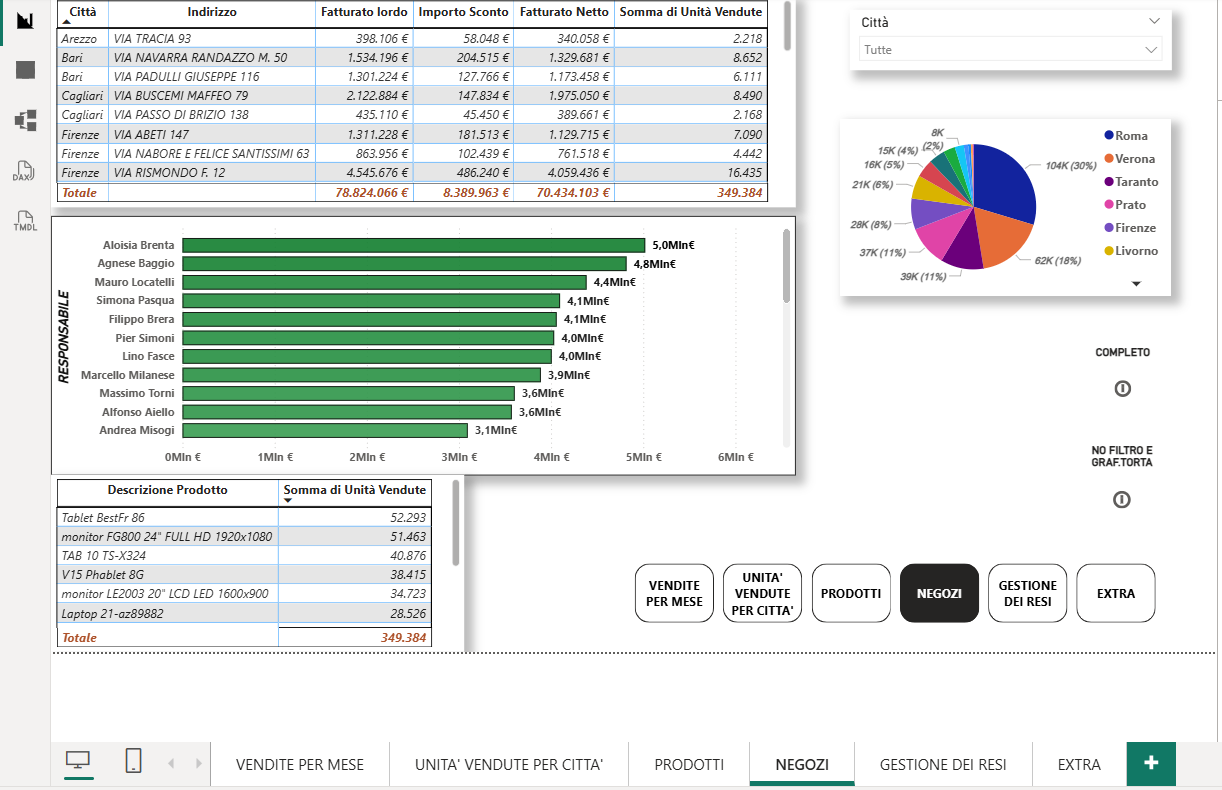

Layout of this report page (visuals, bound fields, positions):
{"tool":"powerbi","page":{"name":"NEGOZI","canvas":[1280,720],"ordinal":3},"visuals":[{"type":"tableEx","fields":{"Values":["Negozi.Città","Negozi.Indirizzo","Dati.Fatturato lordo","Dati.Importo Sconto","Dati.Fatturato Netto","Sum(Dati.Unità Vendute)"]},"box":[0,0,818,231.6],"z":0},{"type":"barChart","fields":{"Category":["Negozi.Responsabile"],"Y":["Dati.Fatturato Netto"]},"box":[0,241.3,818,284.7],"z":1000},{"type":"slicer","fields":{"Values":["Negozi.Città"]},"box":[877.1,14.5,353.5,66.4],"z":2000},{"type":"tableEx","fields":{"Values":["Prodotti.Descrizione Prodotto","Sum(Dati.Unità Vendute)"]},"box":[0,526,453.6,194.2],"z":3000},{"type":"pieChart","fields":{"Category":["Negozi.Città"],"Y":["Sum(Dati.Unità Vendute)"]},"box":[866.2,133.9,364.3,194.2],"z":4000},{"type":"pageNavigator","box":[640.6,622.8,575.4,65.2],"z":5000},{"type":"actionButton","title":"COMPLETO","box":[1121.1,384.1,111.2,75.6],"z":6000},{"type":"actionButton","title":"NO FILTRO E GRAF.TORTA","box":[1121.1,490.8,109.7,90.5],"z":7000}]}

Visuals, with their boxes on the page's 1280x720 design canvas (x1, y1, x2, y2). These are canvas units, not pixel positions in the 1222x790 screenshot, which may show the page scaled, cropped or inside an application window:
tableEx - Negozi.Città x Negozi.Indirizzo: detection(0, 0, 818, 232)
barChart - Negozi.Responsabile x Dati.Fatturato Netto: detection(0, 241, 818, 526)
slicer - Negozi.Città: detection(877, 14, 1231, 81)
tableEx - Prodotti.Descrizione Prodotto x Sum(Dati.Unità Vendute): detection(0, 526, 454, 720)
pieChart - Negozi.Città x Sum(Dati.Unità Vendute): detection(866, 134, 1230, 328)
pageNavigator: detection(641, 623, 1216, 688)
"COMPLETO" actionButton: detection(1121, 384, 1232, 460)
"NO FILTRO E GRAF.TORTA" actionButton: detection(1121, 491, 1231, 581)
